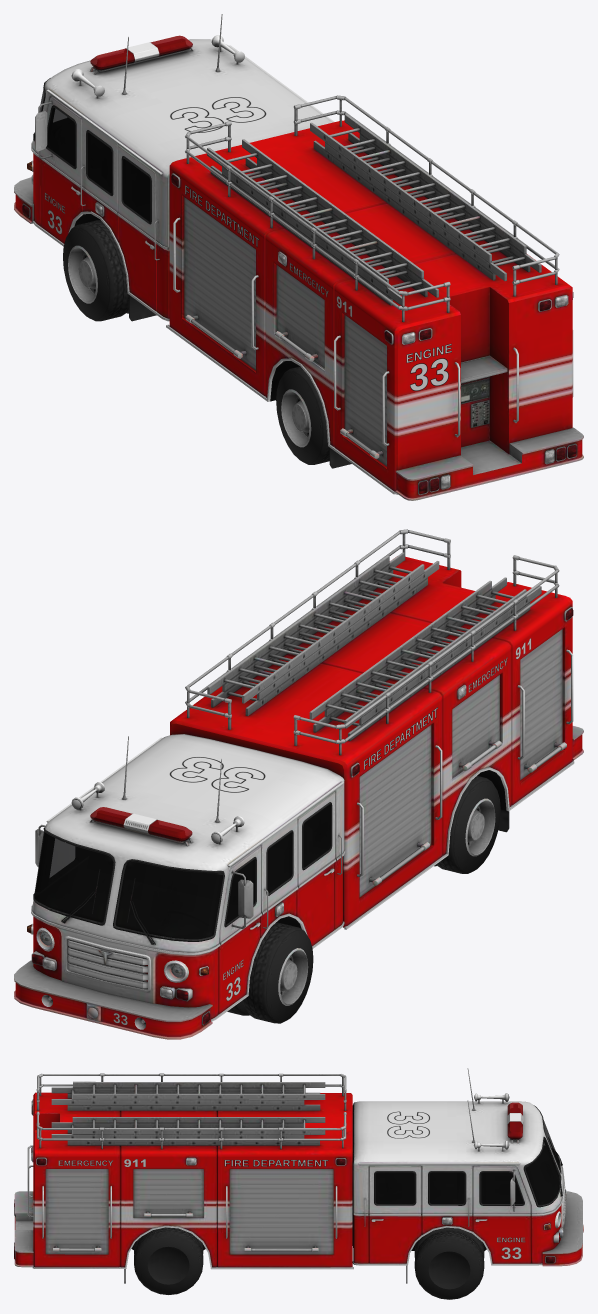
The model's file is fire_truck.glb.
3 renders of one model, top to bottom at view 1: azimuth 30°, elevation 25°; view 2: azimuth 150°, elevation 25°; view 3: azimuth 270°, elevation 25°, orthographic. The views are drawn at different scales.
Parts seen in each view (by area): view 1: fire_truck, wheel_3, wheel_0; view 2: fire_truck, wheel_3, wheel_0; view 3: fire_truck, wheel_1, wheel_2.
Boxes of the visible parts, x1=… form: fire_truck: x1=14, y1=14, x2=583, y2=500; wheel_3: x1=63, y1=220, x2=128, y2=321; wheel_0: x1=276, y1=366, x2=329, y2=464; fire_truck: x1=14, y1=529, x2=583, y2=1039; wheel_3: x1=227, y1=922, x2=313, y2=1023; wheel_0: x1=434, y1=776, x2=500, y2=873; fire_truck: x1=14, y1=1068, x2=583, y2=1283; wheel_1: x1=414, y1=1227, x2=484, y2=1299; wheel_2: x1=134, y1=1227, x2=203, y2=1294.
Bounding box in the file's own units: 2.71 × 3.07 × 8.73.
Materials: 5 (5 with a texture image).
